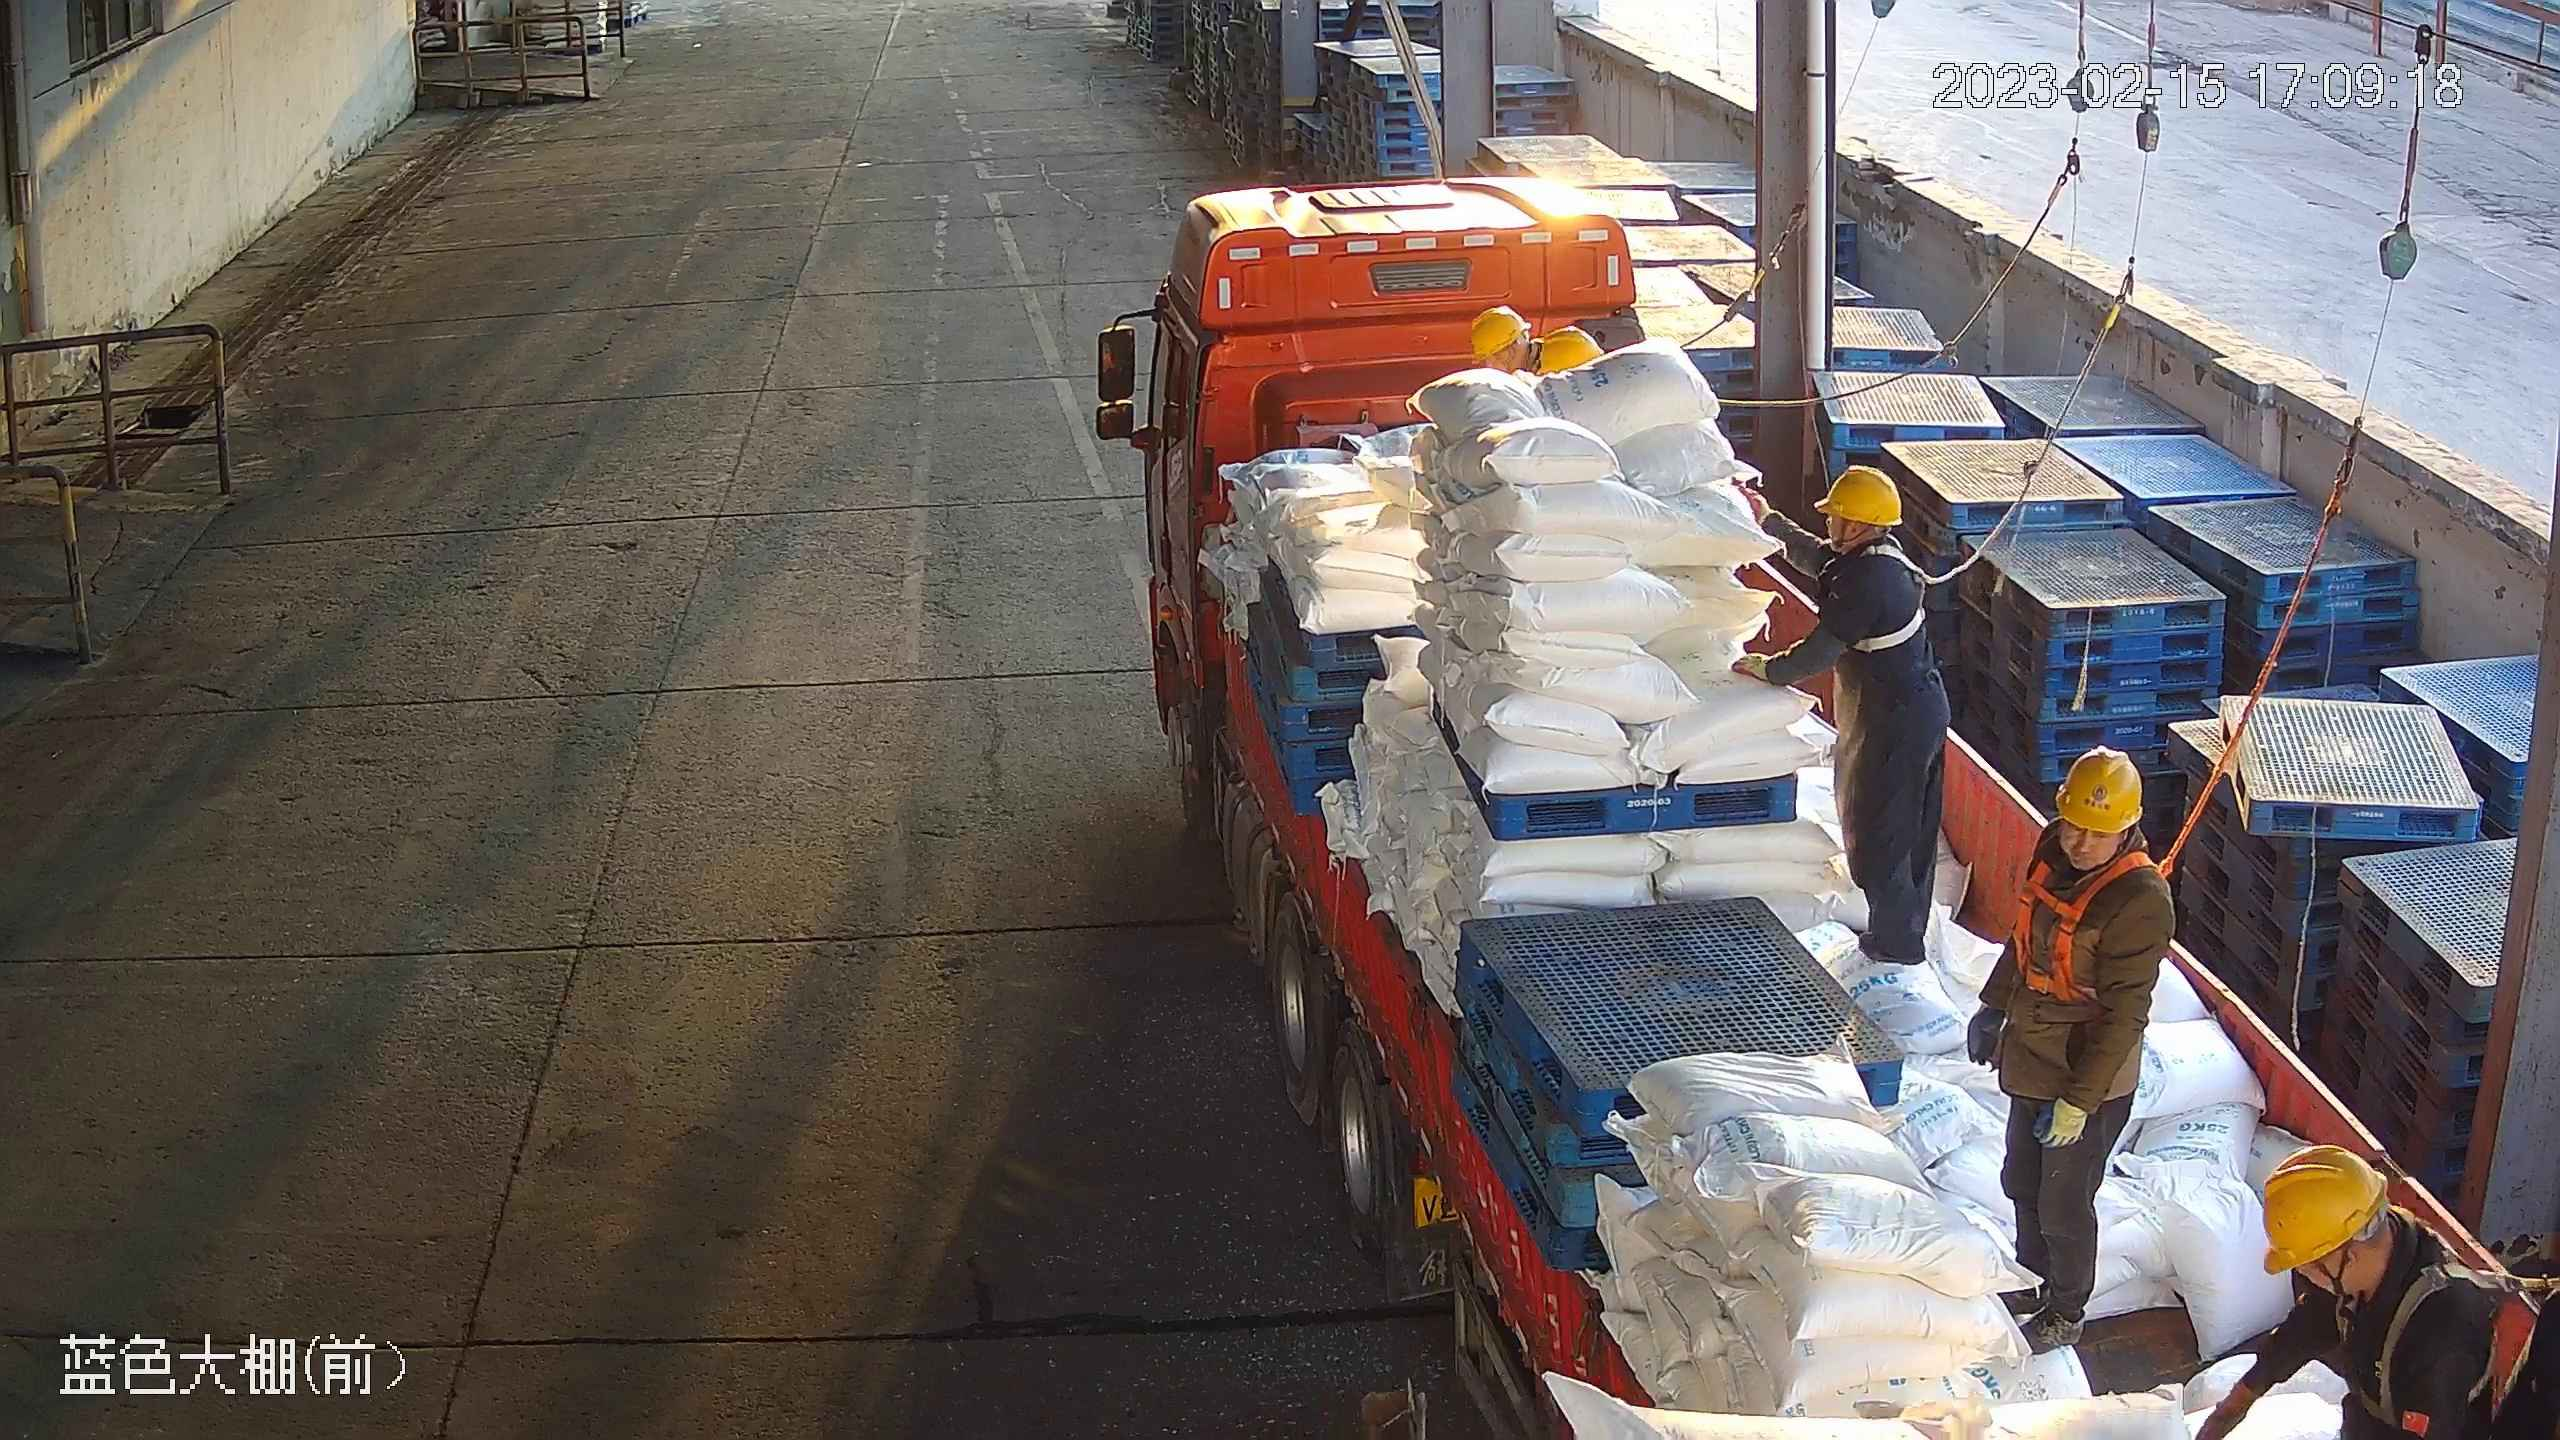belt: (2331, 1265, 2537, 1428), (2011, 850, 2178, 1004), (1852, 533, 1951, 653)
head: (2268, 1147, 2484, 1365), (2026, 744, 2176, 930), (1813, 463, 1922, 613)
helmet: (2261, 1144, 2390, 1273), (2055, 745, 2142, 832), (1812, 464, 1901, 527), (1471, 306, 1532, 363)
people: (1966, 745, 2176, 1360), (1734, 465, 1952, 966)
truck: (1097, 178, 2560, 1440)
